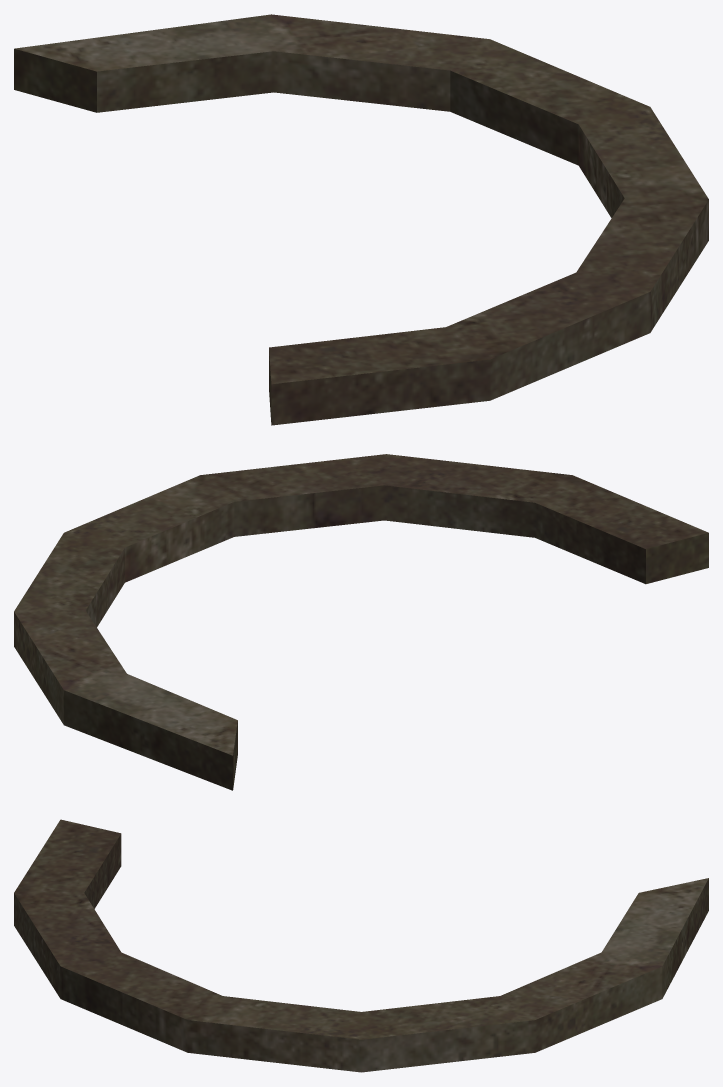
Rendered from TI_IronCircle_02.fbx.
The picture shows the model from 3 angles, top to bottom: view 1: azimuth 30°, elevation 25°; view 2: azimuth 150°, elevation 25°; view 3: azimuth 270°, elevation 25°; orthographic projection. The views are drawn at different scales.
Parts seen in each view (by area): view 1: TI_IronCircle_02; view 2: TI_IronCircle_02; view 3: TI_IronCircle_02.
Boxes of the visible parts, <box> form: TI_IronCircle_02: <box>14,14,708,425</box>; TI_IronCircle_02: <box>14,454,708,790</box>; TI_IronCircle_02: <box>14,819,708,1072</box>.
Bounding box in the file's own units: 0.3076 × 0.0213 × 0.4101.
